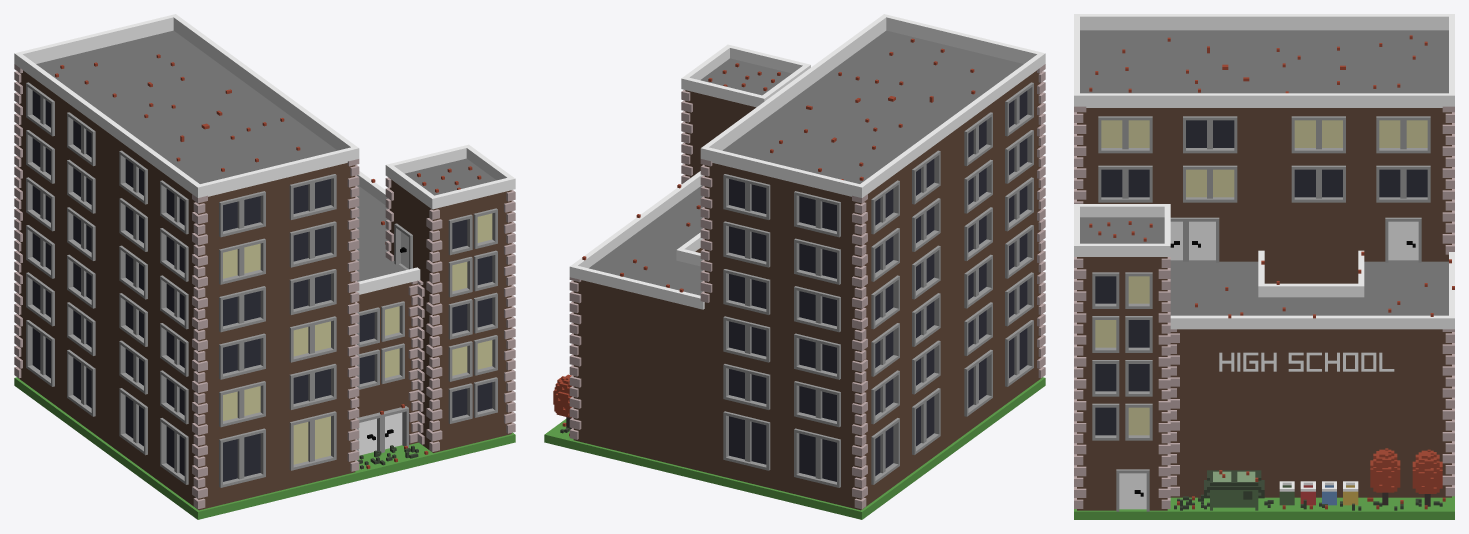
File: Escola.fbx
3 renders of one model, left to right at view 1: azimuth 30°, elevation 25°; view 2: azimuth 150°, elevation 25°; view 3: azimuth 270°, elevation 25°, orthographic. The views are drawn at different scales.
Visible parts, largest first — view 1: polySurface135, Vidro87, Luz7, Luz6, Vidro86; view 2: polySurface135, Vidro17, Vidro19, Vidro18, Vidro16; view 3: polySurface135, Vidro101, Vidro102, Luz19, Vidro105, Vidro107, Vidro108, Vidro100, Luz, Luz16, Luz17, Vidro104 (+13 smaller).
Boxes of the visible parts, bbox=[...] form: polySurface135: bbox=[14, 14, 515, 519]; Vidro87: bbox=[244, 433, 260, 476]; Luz7: bbox=[315, 416, 330, 459]; Luz6: bbox=[293, 422, 308, 464]; Vidro86: bbox=[223, 439, 237, 481]; polySurface135: bbox=[544, 14, 1045, 519]; Vidro17: bbox=[799, 433, 815, 476]; Vidro19: bbox=[729, 416, 744, 459]; Vidro18: bbox=[751, 422, 766, 464]; Vidro16: bbox=[822, 439, 836, 481]; polySurface135: bbox=[1074, 14, 1454, 519]; Vidro101: bbox=[1101, 169, 1122, 197]; Vidro102: bbox=[1128, 169, 1149, 197]; Luz19: bbox=[1213, 169, 1234, 197]; Vidro105: bbox=[1294, 169, 1315, 197]; Vidro107: bbox=[1379, 169, 1400, 197]; Vidro108: bbox=[1406, 169, 1427, 197]; Vidro100: bbox=[1095, 407, 1116, 435]; Luz: bbox=[1128, 407, 1149, 435]; Luz16: bbox=[1101, 120, 1122, 147]; Luz17: bbox=[1128, 120, 1149, 147]; Vidro104: bbox=[1213, 120, 1234, 147].
Bounding box in the file's own units: 126 × 126 × 126.
